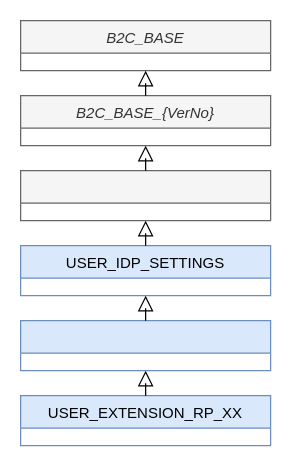
Some shapes in this 291 by 466 pixel diagram are drawn without their labels. The shapes that lost their labels are listed below. From the top down, each one's centre as x and y in pixels, then its label:
At (145,195): "SELMID_EXTENSION_{VerNo}".
At (145,345): "USER_EXTENSION_BASE".
